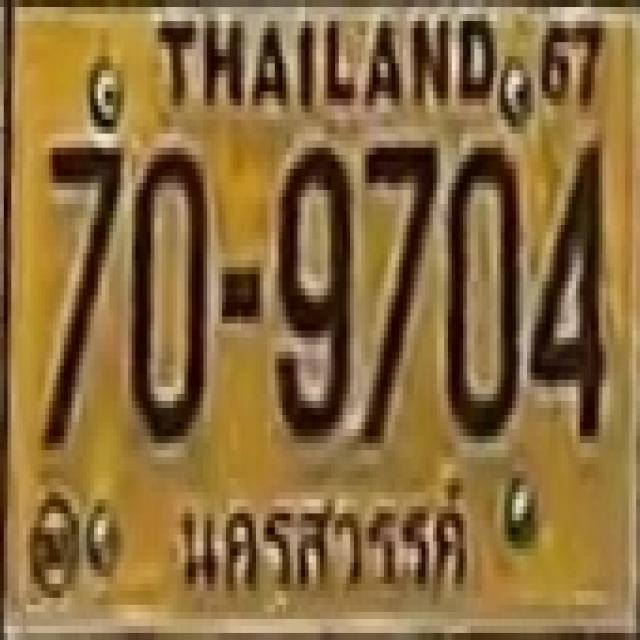0: (128, 141, 203, 436), (444, 137, 516, 433)
4: (527, 134, 602, 429)
7: (41, 141, 120, 443), (361, 134, 433, 436)
9: (273, 137, 348, 433)
NSN: (174, 476, 478, 616)
